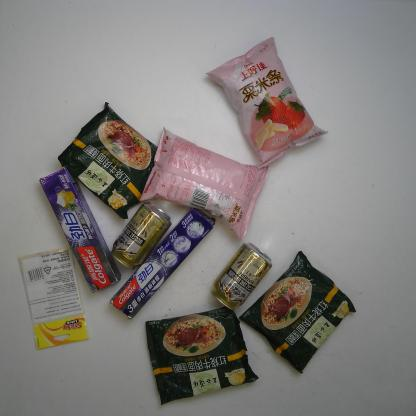Alcohol: (110, 201, 177, 267), (212, 242, 270, 308)
Instant Noodles: (238, 250, 359, 376), (56, 101, 167, 221), (144, 305, 259, 406)
Personal Hygiene: (108, 206, 216, 321), (38, 166, 122, 294)
Puffed Food: (204, 36, 328, 170), (138, 127, 270, 241)
Stationery: (16, 247, 92, 350)
